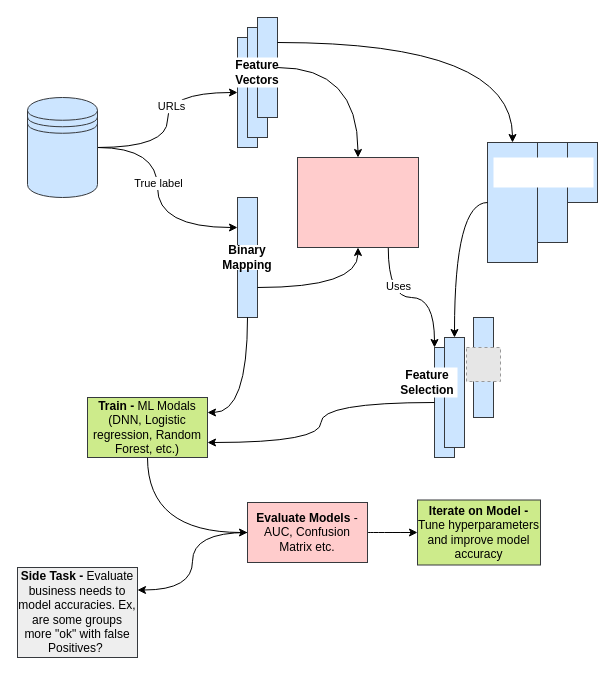
This 615x675 diagram has some shape labels left out. Grey dashed boxes stand in for pictures. Here are the shapes that lost their labels. From the top down, the centre of each, then its label:
the point at 62,147: Phishing Website URL Dataset
the point at 543,172: Train/Cross/Test Split
the point at 357,202: feature evaluation - Data visualization and correlation matrix
